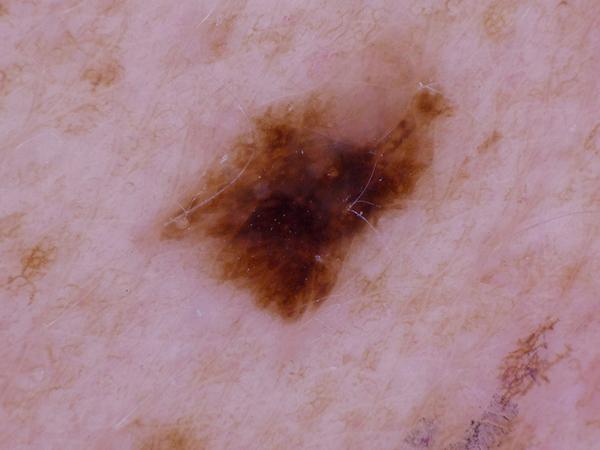Color changes: (228, 199, 260, 234)
